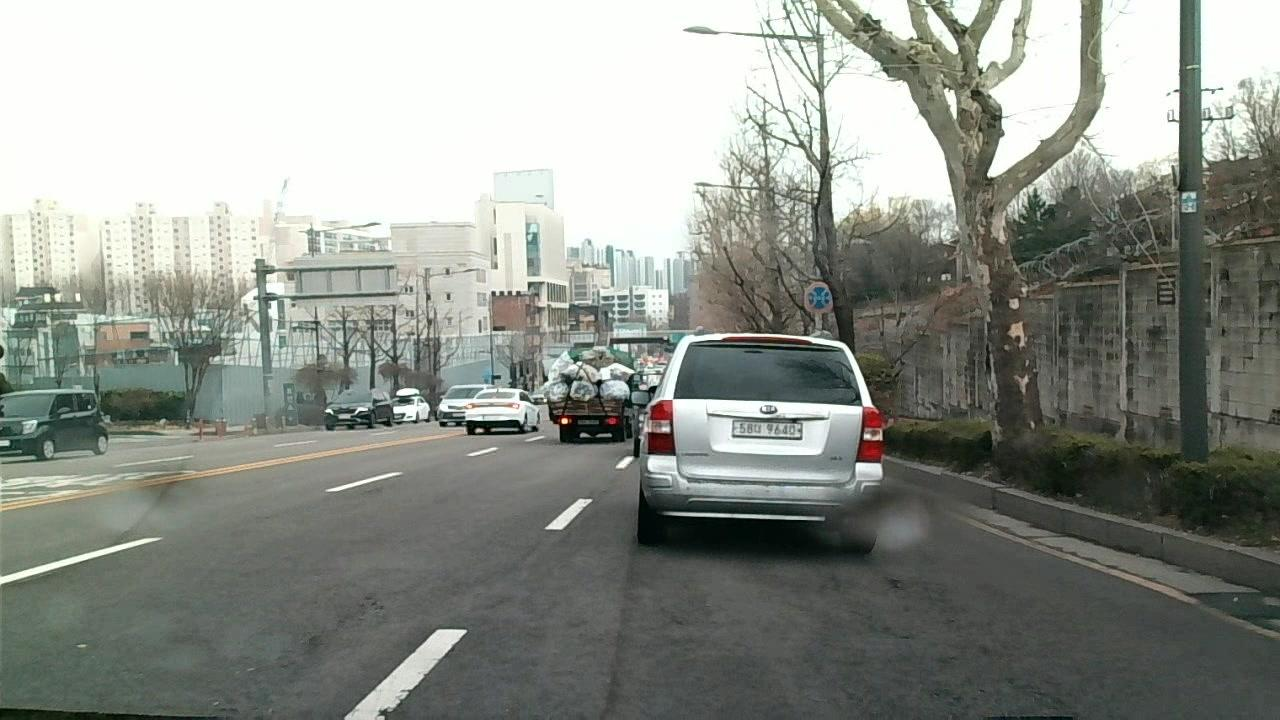erosion: (877, 567, 1054, 720)
